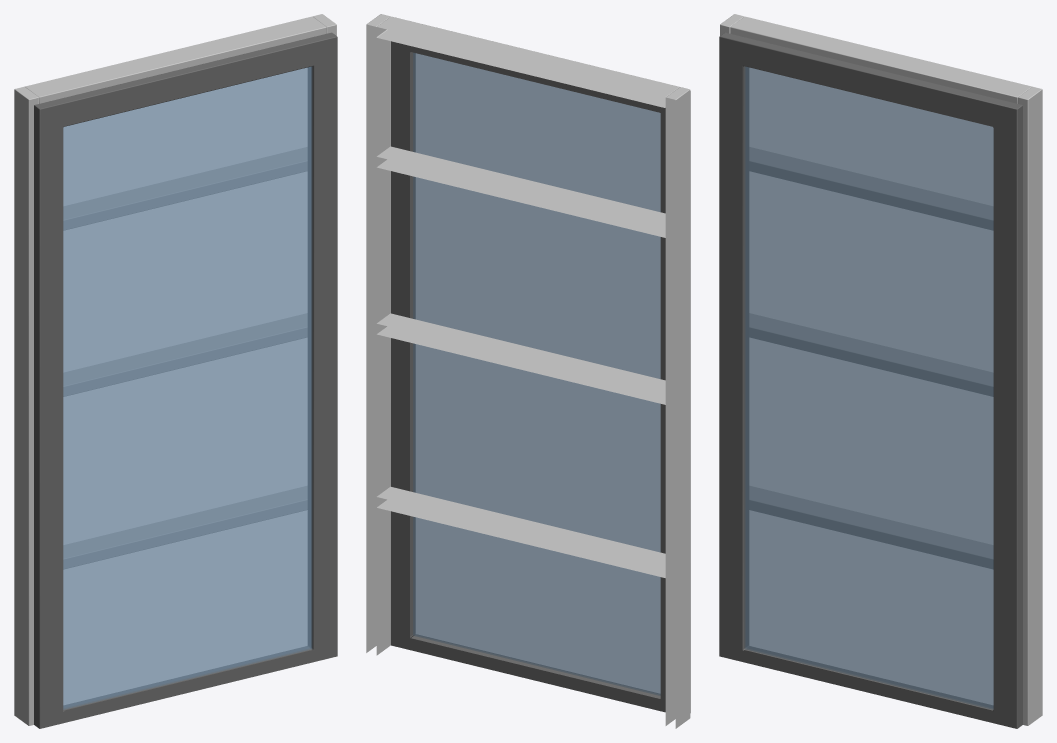
Rendered from FridgeUp.obj.
3 views of the same model, side by side, from view 1: azimuth 30°, elevation 25°; view 2: azimuth 150°, elevation 25°; view 3: azimuth 330°, elevation 25° (orthographic).
Visible parts, largest first — view 1: 289.001; view 2: 289.001; view 3: 289.001.
Part boxes in pixels (bbox=[...]): 289.001: bbox=[14, 14, 337, 728]; 289.001: bbox=[366, 14, 690, 728]; 289.001: bbox=[719, 14, 1042, 728].
Bounding box in the file's own units: 0.6 × 1.16 × 0.0682.
